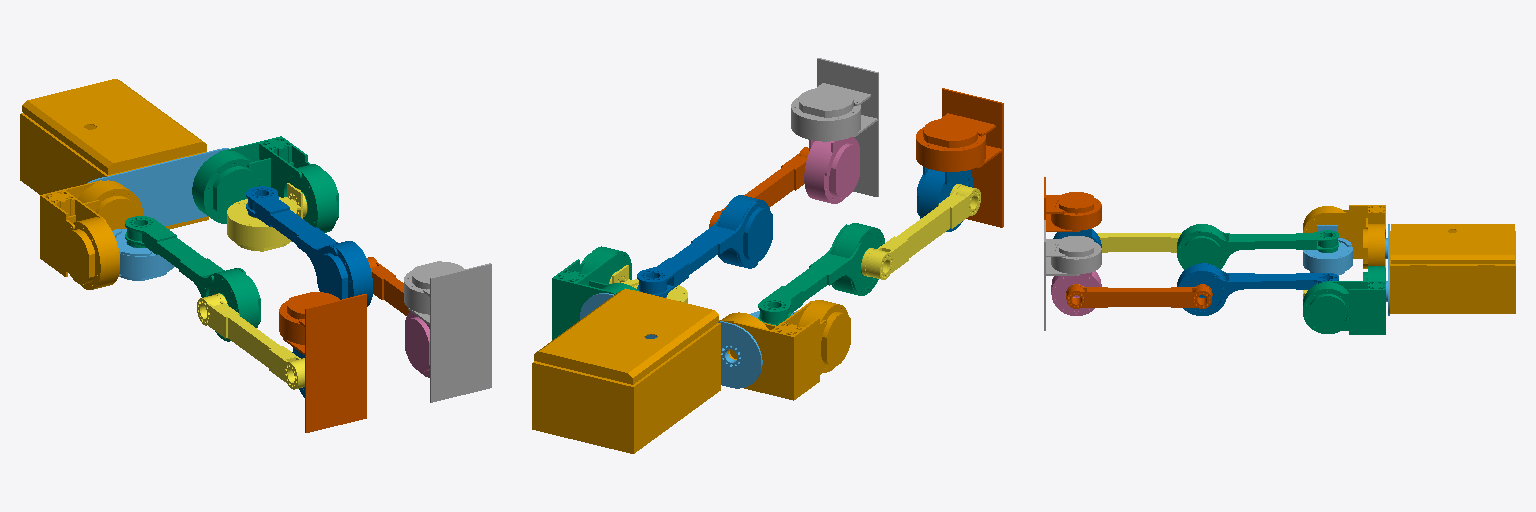
URDF robot description (export_v2):
<?xml version='1.0' encoding='utf-8'?>
<robot name="export_v2">
    <link name="robot_torso_link">
        <inertial>
            <origin xyz="0.040610506256969305 -0.04428824001105586 0.15232735840638484" rpy="0.0 -0.0 0.0" />
            <mass value="3.4766230099551185" />
            <inertia ixx="0.04556755879204122" iyy="0.05012873896013481" izz="0.029046998553490383" ixy="0.0001363433350708794" iyz="-0.00014319360185266472" ixz="-2.17772042035054e-05" />
        </inertial>
        <visual name="robot_torso_link_visual">
            <origin xyz="0.03999999999999842 -0.2065000000000018 -0.8247999999999985" rpy="1.404432126150822e-14 -1.3128387266192404e-14 -1.5707963267948957" />
            <geometry>
                <mesh filename="meshes/robot_torso_link.stl" scale="0.001 0.001 0.001" />
            </geometry>
        </visual>
        <collision name="robot_torso_link_collision">
            <origin xyz="0.03999999999999842 -0.2065000000000018 -0.8247999999999985" rpy="1.404432126150822e-14 -1.3128387266192404e-14 -1.5707963267948957" />
            <geometry>
                <mesh filename="meshes/robot_torso_link.stl" scale="0.001 0.001 0.001" />
            </geometry>
        </collision>
    </link>
    <link name="robot_pelvis_link">
        <inertial>
            <origin xyz="1.907307843025983e-09 0.8221283725272435 -0.16050000000009512" rpy="0.0 0.0 0.0" />
            <mass value="0.4703666239440356" />
            <inertia ixx="0.0004950338258166186" iyy="0.0051455689188816735" izz="0.00465557720347649" ixy="-1.2440762051764413e-16" iyz="-4.9948841394502e-17" ixz="-2.4664787627748077e-16" />
        </inertial>
        <visual name="robot_pelvis_link_visual">
            <origin xyz="0.0 0.0 0.0" rpy="0.0 0.0 0.0" />
            <geometry>
                <mesh filename="meshes/robot_pelvis_link.stl" scale="0.001 0.001 0.001" />
            </geometry>
        </visual>
        <collision name="robot_pelvis_link_collision">
            <origin xyz="0.0 0.0 0.0" rpy="0.0 0.0 0.0" />
            <geometry>
                <mesh filename="meshes/robot_pelvis_link.stl" scale="0.001 0.001 0.001" />
            </geometry>
        </collision>
    </link>
    <link name="robot_l_hip_yaw_link">
        <inertial>
            <origin xyz="0.06170580963744355 1.9456187771993428e-11 0.06827606857409776" rpy="0.0 -0.0 0.0" />
            <mass value="6.333603185323419" />
            <inertia ixx="0.028436782140791816" iyy="0.03981948777445865" izz="0.025134874646244795" ixy="3.3504560609475864e-12" iyz="4.739341596998279e-12" ixz="-0.010596038307326227" />
        </inertial>
        <visual name="robot_l_hip_yaw_link_visual">
            <origin xyz="0.0010000019072628774 -4.121147867408581e-15 0.1212999999999947" rpy="3.4106331814313436e-14 2.914335439640653e-16 -3.1415926535897922" />
            <geometry>
                <mesh filename="meshes/robot_l_hip_yaw_link.stl" scale="0.001 0.001 0.001" />
            </geometry>
        </visual>
        <collision name="robot_l_hip_yaw_link_collision">
            <origin xyz="0.0010000019072628774 -4.121147867408581e-15 0.1212999999999947" rpy="3.4106331814313436e-14 2.914335439640653e-16 -3.1415926535897922" />
            <geometry>
                <mesh filename="meshes/robot_l_hip_yaw_link.stl" scale="0.001 0.001 0.001" />
            </geometry>
        </collision>
    </link>
    <link name="robot_l_hip_pitch_link">
        <inertial>
            <origin xyz="-0.02696184868350109 5.718654837338022e-05 0.07266905837477193" rpy="-3.7659531324685076e-81 -0.0 0.0" />
            <mass value="2.4943200880759124" />
            <inertia ixx="0.005318665627015662" iyy="0.0035221024403746387" izz="0.0031803389744609056" ixy="1.301162759759191e-07" iyz="-3.3025731688284423e-07" ixz="0.00011211843529274009" />
        </inertial>
        <visual name="robot_l_hip_pitch_link_visual">
            <origin xyz="0.000799999999894574 0.2573000000000074 0.07500000166893321" rpy="1.5707963267949085 -1.570796326794896 0" />
            <geometry>
                <mesh filename="meshes/robot_l_hip_pitch_link.stl" scale="0.001 0.001 0.001" />
            </geometry>
        </visual>
        <collision name="robot_l_hip_pitch_link_collision">
            <origin xyz="0.000799999999894574 0.2573000000000074 0.07500000166893321" rpy="1.5707963267949085 -1.570796326794896 0" />
            <geometry>
                <mesh filename="meshes/robot_l_hip_pitch_link.stl" scale="0.001 0.001 0.001" />
            </geometry>
        </collision>
    </link>
    <link name="robot_l_thigh_link">
        <inertial>
            <origin xyz="-0.013245029323109475 -0.004137655727869163 -0.2579314528909593" rpy="0.0 -0.0 0.0" />
            <mass value="3.0917752218546957" />
            <inertia ixx="0.02883218865798365" iyy="0.02680266525524863" izz="0.003607875021008361" ixy="0.00010068883616660142" iyz="0.0021454171666648405" ixz="-0.0010188574668207385" />
        </inertial>
        <visual name="robot_l_thigh_link_visual">
            <origin xyz="-0.006500003619415118 0.000500003046754074 4.497130134950567e-09" rpy="3.141592653589783 -4.579669976578868e-16 3.1415926535897922" />
            <geometry>
                <mesh filename="meshes/robot_l_thigh_link.stl" scale="0.001 0.001 0.001" />
            </geometry>
        </visual>
        <collision name="robot_l_thigh_link_collision">
            <origin xyz="-0.006500003619415118 0.000500003046754074 4.497130134950567e-09" rpy="3.141592653589783 -4.579669976578868e-16 3.1415926535897922" />
            <geometry>
                <mesh filename="meshes/robot_l_thigh_link.stl" scale="0.001 0.001 0.001" />
            </geometry>
        </collision>
    </link>
    <link name="robot_l_shank_link">
        <inertial>
            <origin xyz="-3.0467861478200577e-09 0.14999999550286972 0.02088709684404469" rpy="-3.852921568495442e-61 -0.0 0.0" />
            <mass value="0.8515894596853654" />
            <inertia ixx="0.008817835807395924" iyy="0.00018545866885020384" izz="0.008885909396953537" ixy="-1.7694179454963418e-16" iyz="-5.108341843844014e-17" ixz="-7.241192720668563e-17" />
        </inertial>
        <visual name="robot_l_shank_link_visual">
            <origin xyz="-3.0467515088616894e-09 -0.3000000044971365 -0.021500003857830272" rpy="-1.5707963267949183 -1.5707963267948943 0" />
            <geometry>
                <mesh filename="meshes/robot_l_shank_link.stl" scale="0.001 0.001 0.001" />
            </geometry>
        </visual>
        <collision name="robot_l_shank_link_collision">
            <origin xyz="-3.0467515088616894e-09 -0.3000000044971365 -0.021500003857830272" rpy="-1.5707963267949183 -1.5707963267948943 0" />
            <geometry>
                <mesh filename="meshes/robot_l_shank_link.stl" scale="0.001 0.001 0.001" />
            </geometry>
        </collision>
    </link>
    <link name="robot_l_ankle_link">
        <inertial>
            <origin xyz="0.0025101642045814642 -2.9435578429026778e-06 0.027693209476934388" rpy="0.0 -0.0 0.0" />
            <mass value="2.497542686119488" />
            <inertia ixx="0.003170044378268018" iyy="0.0035459766740820603" izz="0.005361641268614978" ixy="3.5193338254746465e-07" iyz="-5.0583123384351225e-08" ixz="8.715197442183548e-05" />
        </inertial>
        <visual name="robot_l_ankle_link_visual">
            <origin xyz="1.1559999991028747e-05 0.599940920000003 0.018515648092735582" rpy="1.5707963267949097 -1.5707963267948954 0" />
            <geometry>
                <mesh filename="meshes/robot_l_ankle_link.stl" scale="0.001 0.001 0.001" />
            </geometry>
        </visual>
        <collision name="robot_l_ankle_link_collision">
            <origin xyz="1.1559999991028747e-05 0.599940920000003 0.018515648092735582" rpy="1.5707963267949097 -1.5707963267948954 0" />
            <geometry>
                <mesh filename="meshes/robot_l_ankle_link.stl" scale="0.001 0.001 0.001" />
            </geometry>
        </collision>
    </link>
    <link name="robot_l_foot_link">
        <inertial>
            <origin xyz="2.1152900764320747e-09 0.021295071129086525 0.009743852524883821" rpy="0.0 1.2587272089100742e-93 0.0" />
            <mass value="2.78967156731517" />
            <inertia ixx="0.007113124123467467" iyy="0.007089530917847919" izz="0.005986516031780277" ixy="3.032130102553765e-11" iyz="0.001208249550533235" ixz="-3.797835657071147e-11" />
        </inertial>
        <visual name="robot_l_foot_link_visual">
            <origin xyz="-0.009499998092735584 -0.07400000000000896 -0.600000000000003" rpy="1.3142265054000194e-14 -6.383782391594815e-16 -3.1415926535897922" />
            <geometry>
                <mesh filename="meshes/robot_l_foot_link.stl" scale="0.001 0.001 0.001" />
            </geometry>
        </visual>
        <collision name="robot_l_foot_link_collision">
            <origin xyz="-0.009499998092735584 -0.07400000000000896 -0.600000000000003" rpy="1.3142265054000194e-14 -6.383782391594815e-16 -3.1415926535897922" />
            <geometry>
                <mesh filename="meshes/robot_l_foot_link.stl" scale="0.001 0.001 0.001" />
            </geometry>
        </collision>
    </link>
    <link name="robot_r_hip_yaw_link">
        <inertial>
            <origin xyz="-0.06170580582138252 -1.9462511602341692e-11 -0.06827606857536807" rpy="0.0 -0.0 0.0" />
            <mass value="6.33360318547509" />
            <inertia ixx="0.02843678214118306" iyy="0.03981948777555511" izz="0.025134874646876512" ixy="3.3527615383185486e-12" iyz="4.741342443921934e-12" ixz="-0.010596038306837618" />
        </inertial>
        <visual name="robot_r_hip_yaw_link_visual">
            <origin xyz="-0.0009999980926557051 4.0856207306205765e-15 -0.12129999999999527" rpy="-3.3939798360619713e-14 2.9143354396404137e-16 -1.1379786002408091e-15" />
            <geometry>
                <mesh filename="meshes/robot_r_hip_yaw_link.stl" scale="0.001 0.001 0.001" />
            </geometry>
        </visual>
        <collision name="robot_r_hip_yaw_link_collision">
            <origin xyz="-0.0009999980926557051 4.0856207306205765e-15 -0.12129999999999527" rpy="-3.3939798360619713e-14 2.9143354396404137e-16 -1.1379786002408091e-15" />
            <geometry>
                <mesh filename="meshes/robot_r_hip_yaw_link.stl" scale="0.001 0.001 0.001" />
            </geometry>
        </collision>
    </link>
    <link name="robot_r_hip_pitch_link">
        <inertial>
            <origin xyz="-0.026950752726990004 -4.887744043458043e-07 0.07268407470290571" rpy="0.0 -0.0 0.0" />
            <mass value="2.4943200880759147" />
            <inertia ixx="0.005318838704479134" iyy="0.0035222338455168645" izz="0.003180296615424849" ixy="-2.273747279346594e-08" iyz="2.823485417691174e-09" ixz="0.00011208276943740214" />
        </inertial>
        <visual name="robot_r_hip_pitch_link_visual">
            <origin xyz="0.0007999999998950713 -0.25730000000000786 0.075000005483542" rpy="1.5707963267948843 -1.5707963267948957 0" />
            <geometry>
                <mesh filename="meshes/robot_r_hip_pitch_link.stl" scale="0.001 0.001 0.001" />
            </geometry>
        </visual>
        <collision name="robot_r_hip_pitch_link_collision">
            <origin xyz="0.0007999999998950713 -0.25730000000000786 0.075000005483542" rpy="1.5707963267948843 -1.5707963267948957 0" />
            <geometry>
                <mesh filename="meshes/robot_r_hip_pitch_link.stl" scale="0.001 0.001 0.001" />
            </geometry>
        </collision>
    </link>
    <link name="robot_r_thigh_link">
        <inertial>
            <origin xyz="0.013245027463409737 0.004137658774629856 0.2579314573880829" rpy="0.0 -0.0 0.0" />
            <mass value="3.0917752218546957" />
            <inertia ixx="0.02883218865798376" iyy="0.026802665253455676" izz="0.003607875019214846" ixy="0.00010068883404953363" iyz="0.0021454171666639033" ixz="-0.0010188574476189692" />
        </inertial>
        <visual name="robot_r_thigh_link_visual">
            <origin xyz="0.006500001907344953 -0.0005000000000066862 -6.1106675275368615e-15" rpy="3.1415926535897474 2.0816681711726145e-16 9.020562075079486e-16" />
            <geometry>
                <mesh filename="meshes/robot_r_thigh_link.stl" scale="0.001 0.001 0.001" />
            </geometry>
        </visual>
        <collision name="robot_r_thigh_link_collision">
            <origin xyz="0.006500001907344953 -0.0005000000000066862 -6.1106675275368615e-15" rpy="3.1415926535897474 2.0816681711726145e-16 9.020562075079486e-16" />
            <geometry>
                <mesh filename="meshes/robot_r_thigh_link.stl" scale="0.001 0.001 0.001" />
            </geometry>
        </collision>
    </link>
    <link name="robot_r_shank_link">
        <inertial>
            <origin xyz="-4.405364961712621e-14 -0.14999999999999544 0.02088709874680781" rpy="-4.922502319359728e-62 -0.0 0.0" />
            <mass value="0.8515894596853654" />
            <inertia ixx="0.008817835807396299" iyy="0.00018545866885018997" izz="0.008885909396952732" ixy="1.1796119636642298e-16" iyz="-8.32422847682077e-17" ixz="-8.92696737494169e-17" />
        </inertial>
        <visual name="robot_r_shank_link_visual">
            <origin xyz="-6.0751403907488565e-15 0.30000000000001104 -0.021500001955065694" rpy="-1.570796326794883 -1.5707963267948897 0" />
            <geometry>
                <mesh filename="meshes/robot_r_shank_link.stl" scale="0.001 0.001 0.001" />
            </geometry>
        </visual>
        <collision name="robot_r_shank_link_collision">
            <origin xyz="-6.0751403907488565e-15 0.30000000000001104 -0.021500001955065694" rpy="-1.570796326794883 -1.5707963267948897 0" />
            <geometry>
                <mesh filename="meshes/robot_r_shank_link.stl" scale="0.001 0.001 0.001" />
            </geometry>
        </collision>
    </link>
    <link name="robot_r_ankle_link">
        <inertial>
            <origin xyz="0.0025096858438951133 4.881742454987403e-07 0.02773418951986404" rpy="-6.299414961705125e-96 -0.0 0.0" />
            <mass value="2.4975426861194876" />
            <inertia ixx="0.0031677074193712795" iyy="0.0035435011232669844" izz="0.005361501992920334" ixy="3.059899889024109e-09" iyz="-2.2390836785374235e-08" ixz="8.122457175510502e-05" />
        </inertial>
        <visual name="robot_r_ankle_link_visual">
            <origin xyz="-6.643574579356937e-15 -0.6000000000000062 0.01950000190734496" rpy="1.5707963267948835 -1.5707963267948952 0" />
            <geometry>
                <mesh filename="meshes/robot_r_ankle_link.stl" scale="0.001 0.001 0.001" />
            </geometry>
        </visual>
        <collision name="robot_r_ankle_link_collision">
            <origin xyz="-6.643574579356937e-15 -0.6000000000000062 0.01950000190734496" rpy="1.5707963267948835 -1.5707963267948952 0" />
            <geometry>
                <mesh filename="meshes/robot_r_ankle_link.stl" scale="0.001 0.001 0.001" />
            </geometry>
        </collision>
    </link>
    <link name="robot_r_foot_link">
        <inertial>
            <origin xyz="1.6993186235936263e-09 -0.02129507460669811 -0.009743852524875" rpy="0.0 -0.0 0.0" />
            <mass value="2.7896715673151693" />
            <inertia ixx="0.007113124257631137" iyy="0.007089530917849758" izz="0.005986516165940273" ixy="3.032198797603414e-11" iyz="0.0012082496450576182" ixz="-3.797779352347724e-11" />
        </inertial>
        <visual name="robot_r_foot_link_visual">
            <origin xyz="0.00950000190734107 0.07400000000000669 0.6000000000000062" rpy="-1.3163324039812401e-14 -2.0816681711723186e-16 -9.020562075079555e-16" />
            <geometry>
                <mesh filename="meshes/robot_r_foot_link.stl" scale="0.001 0.001 0.001" />
            </geometry>
        </visual>
        <collision name="robot_r_foot_link_collision">
            <origin xyz="0.00950000190734107 0.07400000000000669 0.6000000000000062" rpy="-1.3163324039812401e-14 -2.0816681711723186e-16 -9.020562075079555e-16" />
            <geometry>
                <mesh filename="meshes/robot_r_foot_link.stl" scale="0.001 0.001 0.001" />
            </geometry>
        </collision>
    </link>
    <joint name="robot_pelvis_link_l_yaw_joint" type="revolute">
        <origin xyz="0.12000000000000094 0.8127999999999959 -0.1604999999999903" rpy="1.5707963267949308 2.77555756156387e-17 5.273559366969195e-16" />
        <parent link="robot_pelvis_link" />
        <child link="robot_l_hip_yaw_link" />
        <axis xyz="-4.2755644765189156e-32 2.1213866940853923e-14 1.0" />
        <limit lower="-0.523599" upper="0.523599" effort="1000000" velocity="1000000" />
    </joint>
    <joint name="robot_l_hip_yaw_link_l_pitch_joint" type="revolute">
        <origin xyz="0.07499999999999987 2.877698079828406e-15 0.13629999999999995" rpy="-1.5707963267948966 2.1213866940853926e-14 1.5707963267948966" />
        <parent link="robot_l_hip_yaw_link" />
        <child link="robot_l_hip_pitch_link" />
        <axis xyz="-2.2725973344141428e-32 2.775557561565327e-17 -1.0" />
        <limit lower="-1.047198" upper="0.698132" effort="1000000" velocity="1000000" />
    </joint>
    <joint name="robot_l_hip_pitch_link_l_roll_joint" type="revolute">
        <origin xyz="0.0004884400000000255 5.907999999990921e-05 0.07498434999999998" rpy="-1.5707963267949294 1.5707963267948966 0" />
        <parent link="robot_l_hip_pitch_link" />
        <child link="robot_l_thigh_link" />
        <axis xyz="-3.8518598882279653e-34 1.0 3.270422467429247e-14" />
        <limit lower="-0.436332" upper="0.436332" effort="1000000" velocity="1000000" />
    </joint>
    <joint name="robot_l_thigh_link_l_knee_joint" type="revolute">
        <origin xyz="0.0129999999999999 0.0005000000000097771 -0.3" rpy="-1.5707963267948981 3.270422467429247e-14 -1.5707963267948966" />
        <parent link="robot_l_thigh_link" />
        <child link="robot_l_shank_link" />
        <axis xyz="-1.2210395847338845e-31 1.4849232954356037e-15 -1.0" />
        <limit lower="-2.094395" upper="0.0" effort="1000000" velocity="1000000" />
    </joint>
    <joint name="robot_l_shank_link_l_ankle_joint" type="revolute">
        <origin xyz="0.0 0.3 4.440892098500626e-16" rpy="-3.141592653589792 2.241782455256438e-31 3.1554436208840472e-30" />
        <parent link="robot_l_shank_link" />
        <child link="robot_l_ankle_link" />
        <axis xyz="1.0207428705226006e-31 -0.0 1.0" />
        <limit lower="-0.610865" upper="0.436332" effort="1000000" velocity="1000000" />
    </joint>
    <joint name="robot_l_ankle_link_l_foot_joint" type="revolute">
        <origin xyz="0.07401155999999999 -5.9079999999998025e-05 0.009015649999999998" rpy="1.5707963267948966 1.5707963267948966 0" />
        <parent link="robot_l_ankle_link" />
        <child link="robot_l_foot_link" />
        <axis xyz="1.2094840050743994e-31 1.0 0.0" />
        <limit lower="-0.261799" upper="0.261799" effort="1000000" velocity="1000000" />
    </joint>
    <joint name="robot_pelvis_link_r_yaw_joint" type="revolute">
        <origin xyz="-0.11999999999999826 0.8127999999999959 -0.1604999999999903" rpy="-1.5707963267948628 2.77555756156387e-17 5.273559366969195e-16" />
        <parent link="robot_pelvis_link" />
        <child link="robot_r_hip_yaw_link" />
        <axis xyz="4.2755644765189156e-32 2.1047333487160162e-14 1.0" />
        <limit lower="-0.523599" upper="0.523599" effort="1000000" velocity="1000000" />
    </joint>
    <joint name="robot_r_hip_yaw_link_r_pitch_joint" type="revolute">
        <origin xyz="-0.07499999999999991 -2.877698079828406e-15 -0.13629999999999995" rpy="-1.5707963267948966 -2.1047333487160162e-14 -1.5707963267948966" />
        <parent link="robot_r_hip_yaw_link" />
        <child link="robot_r_hip_pitch_link" />
        <axis xyz="-8.281498761229452e-33 0.0 1.0" />
        <limit lower="-1.047198" upper="0.698132" effort="1000000" velocity="1000000" />
    </joint>
    <joint name="robot_r_hip_pitch_link_r_roll_joint" type="revolute">
        <origin xyz="0.0005000000000000072 0.0 0.07500000000000002" rpy="-1.5707963267948637 -1.5707963267948966 0" />
        <parent link="robot_r_hip_pitch_link" />
        <child link="robot_r_thigh_link" />
        <axis xyz="-2.1955601366083152e-32 1.0 -3.282668935420722e-14" />
        <limit lower="-0.436332" upper="0.436332" effort="1000000" velocity="1000000" />
    </joint>
    <joint name="robot_r_thigh_link_r_knee_joint" type="revolute">
        <origin xyz="-0.013000000000000185 -0.0004999999999901661 0.3000000000000001" rpy="-1.570796326794898 3.282668935420722e-14 1.5707963267948966" />
        <parent link="robot_r_thigh_link" />
        <child link="robot_r_shank_link" />
        <axis xyz="-3.120006509880417e-32 -1.193489751472503e-15 1.0" />
        <limit lower="-2.094395" upper="0.0" effort="1000000" velocity="1000000" />
    </joint>
    <joint name="robot_r_shank_link_r_ankle_joint" type="revolute">
        <origin xyz="0.0 -0.3 -3.552713678800501e-16" rpy="-3.1415926535897922 -1.0400021699518434e-31 0.0" />
        <parent link="robot_r_shank_link" />
        <child link="robot_r_ankle_link" />
        <axis xyz="7.280015189638016e-32 1.5879329631222806e-30 -1.0" />
        <limit lower="-0.610865" upper="0.436332" effort="1000000" velocity="1000000" />
    </joint>
    <joint name="robot_r_ankle_link_r_foot_joint" type="revolute">
        <origin xyz="0.07400000000000002 0.0 0.01" rpy="1.5707963267948966 -1.5707963267948961 0" />
        <parent link="robot_r_ankle_link" />
        <child link="robot_r_foot_link" />
        <axis xyz="-2.5037089276361443e-33 1.0 -2.105898581219543e-17" />
        <limit lower="-0.261799" upper="0.261799" effort="1000000" velocity="1000000" />
    </joint>
    <joint name="robot_pelvis_link_torso_joint" type="fixed">
        <origin xyz="-0.03999999999999858 0.8247999999999963 -0.2064999999999898" rpy="-1.570796326794884 2.77555756156387e-17 5.273559366969195e-16" />
        <parent link="robot_pelvis_link" />
        <child link="robot_torso_link" />
    </joint>
</robot>

--- Facts derived from the render (not from the file) ---
Views: 3 orthographic renders of the robot side by side, from view 1: azimuth 30°, elevation 25°; view 2: azimuth 150°, elevation 25°; view 3: azimuth 270°, elevation 25°.
Robot: export_v2 — 14 links, 13 joints (12 revolute, 1 fixed); root link robot_pelvis_link; default pose: all joints at 0.
Links seen in each view (by area): view 1: robot_torso_link, robot_l_foot_link, robot_r_foot_link, robot_r_hip_yaw_link, robot_l_hip_yaw_link, robot_l_thigh_link, robot_r_thigh_link, robot_pelvis_link, robot_r_shank_link, robot_l_hip_pitch_link, robot_r_hip_pitch_link, robot_l_ankle_link (+1 smaller); view 2: robot_torso_link, robot_r_foot_link, robot_r_hip_yaw_link, robot_l_foot_link, robot_l_thigh_link, robot_r_thigh_link, robot_r_shank_link, robot_l_hip_yaw_link, robot_l_ankle_link, robot_pelvis_link, robot_l_shank_link, robot_r_ankle_link (+1 smaller); view 3: robot_torso_link, robot_l_hip_yaw_link, robot_r_thigh_link, robot_l_thigh_link, robot_r_hip_yaw_link, robot_l_shank_link, robot_l_foot_link, robot_r_foot_link, robot_r_shank_link, robot_r_hip_pitch_link, robot_l_ankle_link.
Link boxes in pixels (x1=…): robot_torso_link: x1=20, y1=79, x2=208, y2=229; robot_l_foot_link: x1=404, y1=261, x2=491, y2=402; robot_r_foot_link: x1=279, y1=292, x2=366, y2=432; robot_r_hip_yaw_link: x1=40, y1=180, x2=142, y2=289; robot_l_hip_yaw_link: x1=192, y1=136, x2=338, y2=232; robot_l_thigh_link: x1=246, y1=186, x2=372, y2=306; robot_r_thigh_link: x1=125, y1=216, x2=260, y2=341; robot_pelvis_link: x1=87, y1=148, x2=228, y2=226; robot_r_shank_link: x1=197, y1=293, x2=304, y2=389; robot_l_hip_pitch_link: x1=227, y1=183, x2=306, y2=251; robot_r_hip_pitch_link: x1=112, y1=229, x2=174, y2=280; robot_l_ankle_link: x1=405, y1=311, x2=429, y2=377; robot_torso_link: x1=532, y1=288, x2=720, y2=453; robot_r_foot_link: x1=916, y1=88, x2=1003, y2=227; robot_r_hip_yaw_link: x1=720, y1=300, x2=850, y2=400; robot_l_foot_link: x1=791, y1=58, x2=878, y2=196; robot_l_thigh_link: x1=637, y1=195, x2=772, y2=297; robot_r_thigh_link: x1=758, y1=223, x2=884, y2=325; robot_r_shank_link: x1=861, y1=184, x2=980, y2=279; robot_l_hip_yaw_link: x1=552, y1=246, x2=639, y2=339; robot_l_ankle_link: x1=804, y1=137, x2=859, y2=203; robot_pelvis_link: x1=580, y1=293, x2=762, y2=388; robot_l_shank_link: x1=709, y1=147, x2=809, y2=227; robot_r_ankle_link: x1=917, y1=166, x2=972, y2=231; robot_torso_link: x1=1390, y1=224, x2=1515, y2=313; robot_l_hip_yaw_link: x1=1303, y1=266, x2=1385, y2=334; robot_r_thigh_link: x1=1177, y1=224, x2=1338, y2=269; robot_l_thigh_link: x1=1177, y1=263, x2=1338, y2=315; robot_r_hip_yaw_link: x1=1303, y1=205, x2=1385, y2=268; robot_l_shank_link: x1=1066, y1=284, x2=1212, y2=308; robot_l_foot_link: x1=1044, y1=220, x2=1101, y2=330; robot_r_foot_link: x1=1044, y1=177, x2=1101, y2=231; robot_r_shank_link: x1=1097, y1=233, x2=1181, y2=252; robot_r_hip_pitch_link: x1=1303, y1=225, x2=1352, y2=275; robot_l_ankle_link: x1=1051, y1=271, x2=1101, y2=315.
Size in the robot's own frame: 0.4954 by 1.12 by 0.235 metres.
Meshes: 14 distinct files referenced, 14 mesh visuals loaded (14 binary STL).
